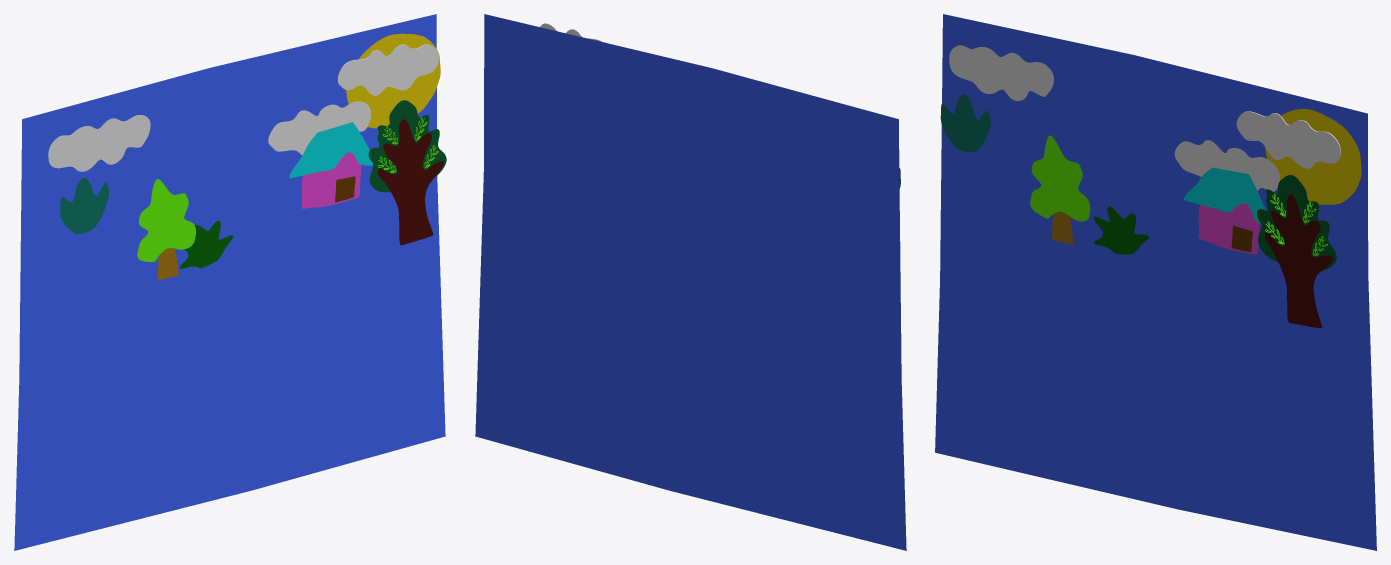
Rendered from Gobelino.glb.
3 views of the same model, side by side, from view 1: azimuth 30°, elevation 25°; view 2: azimuth 150°, elevation 25°; view 3: azimuth 330°, elevation 25° (orthographic). The views are drawn at different scales.
Parts seen in each view (by area): view 1: Gobelino; view 2: Gobelino; view 3: Gobelino.
Part boxes in pixels (bbox=[...]): Gobelino: bbox=[14, 14, 446, 550]; Gobelino: bbox=[475, 14, 906, 550]; Gobelino: bbox=[935, 14, 1376, 550].
Size of the model in its own units: 49.48 by 47.75 by 4.14.
